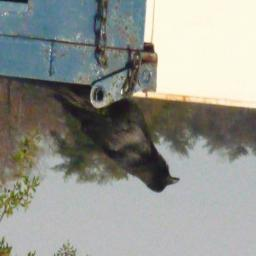Crow: (54, 87, 181, 195)
